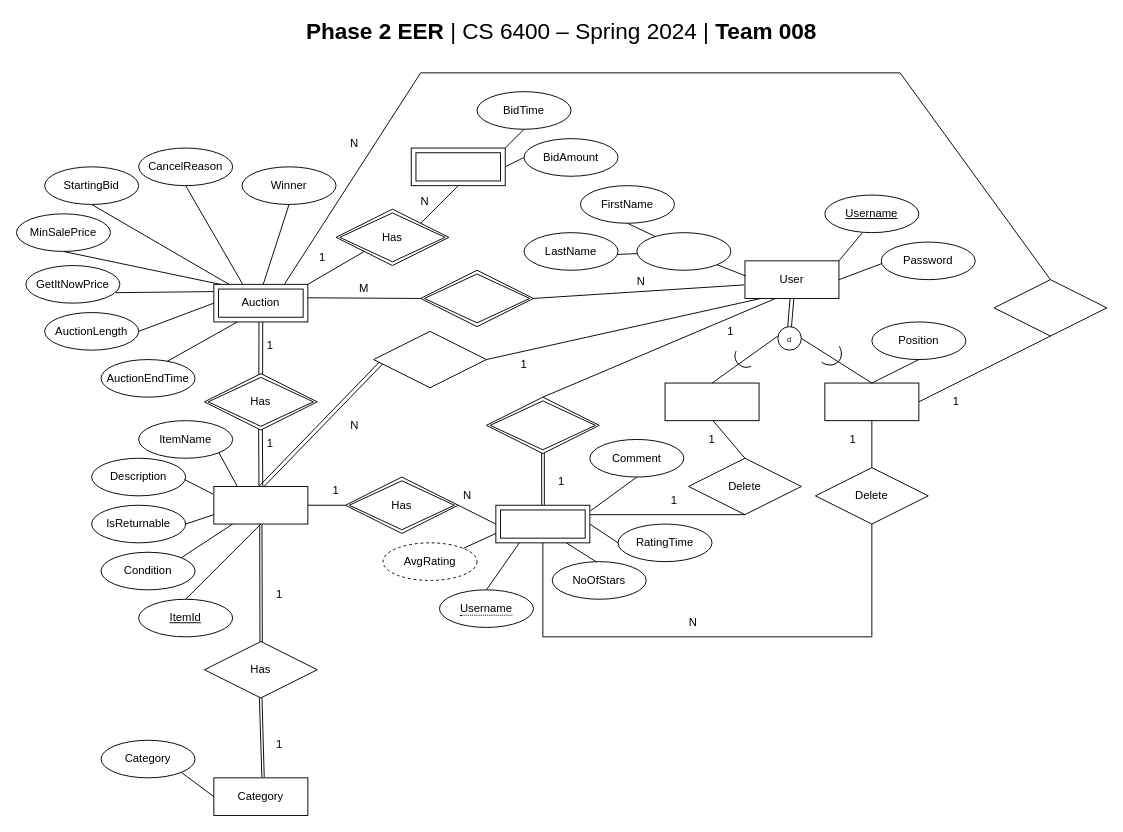
Some shapes in this 1123 by 832 pixel diagram are drawn without their labels. The centre of each missing label's shape, as x and y in pixels:
"Add" goes at point (542, 425).
"AdminUser" goes at point (871, 401).
"Bid" goes at point (457, 166).
"Bids" goes at point (476, 298).
"CancelledBy" goes at point (1050, 307).
"Item" goes at point (260, 505).
"Lists" goes at point (429, 359).
"Name" goes at point (683, 251).
"Rating" goes at point (542, 523).
"RegularUser" goes at point (711, 401).
